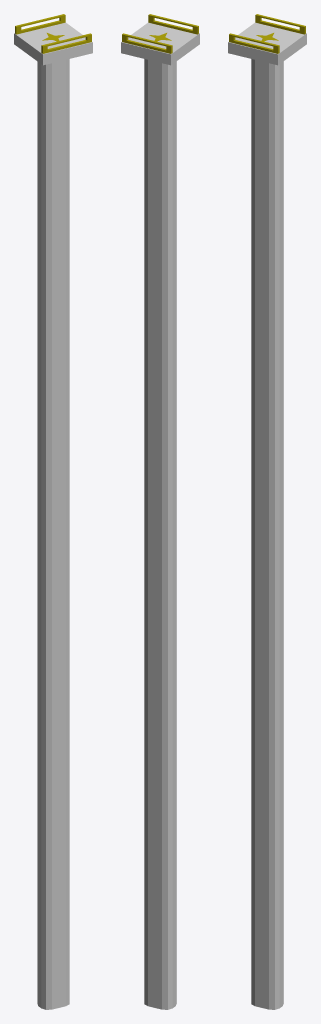
The model's file is Platform.fbx.
3 renders of one model, left to right at view 1: azimuth 30°, elevation 25°; view 2: azimuth 150°, elevation 25°; view 3: azimuth 330°, elevation 25°, orthographic.
Parts seen in each view (by area): view 1: Platform, LEFT GRILL, RIGHT GRILL; view 2: Platform, RIGHT GRILL, LEFT GRILL; view 3: Platform, LEFT GRILL, RIGHT GRILL.
Boxes of the visible parts, x1,y1,x2,y2 form: Platform: (14, 22, 92, 1009); LEFT GRILL: (41, 33, 91, 53); RIGHT GRILL: (15, 14, 65, 34); Platform: (121, 22, 199, 1009); RIGHT GRILL: (122, 33, 172, 53); LEFT GRILL: (148, 14, 198, 34); Platform: (228, 22, 306, 1009); LEFT GRILL: (229, 33, 279, 53); RIGHT GRILL: (255, 14, 305, 34).
Bounding box in the file's own units: 100 × 1863 × 100.
